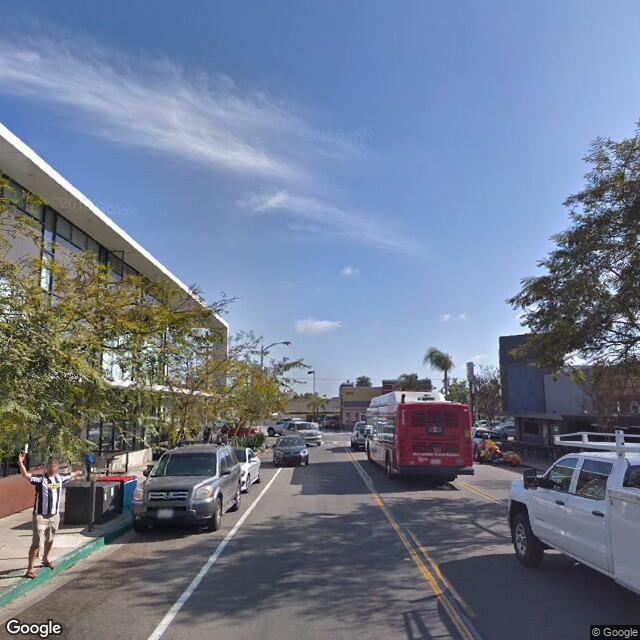road line: (405, 533, 477, 640)
